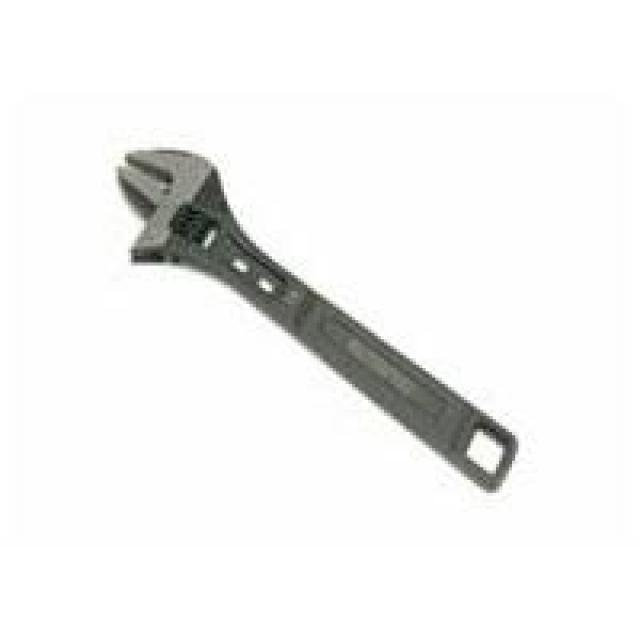wrench: (107, 137, 530, 508)
